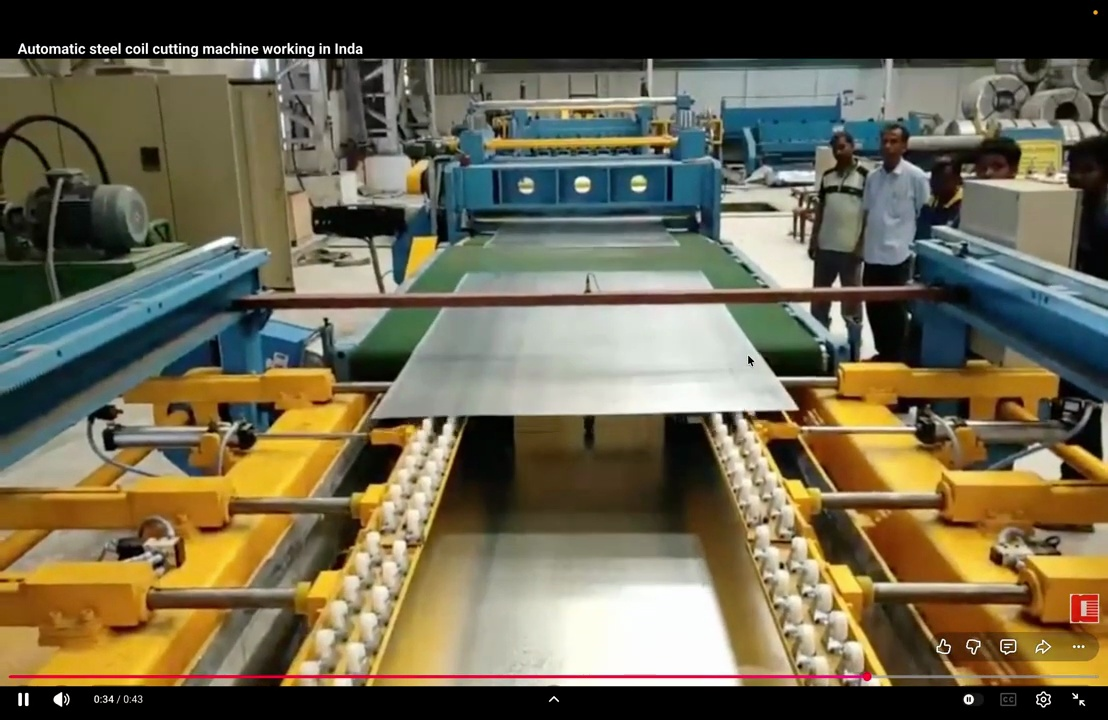steel plate: (374, 305, 795, 417), (487, 219, 677, 248)
